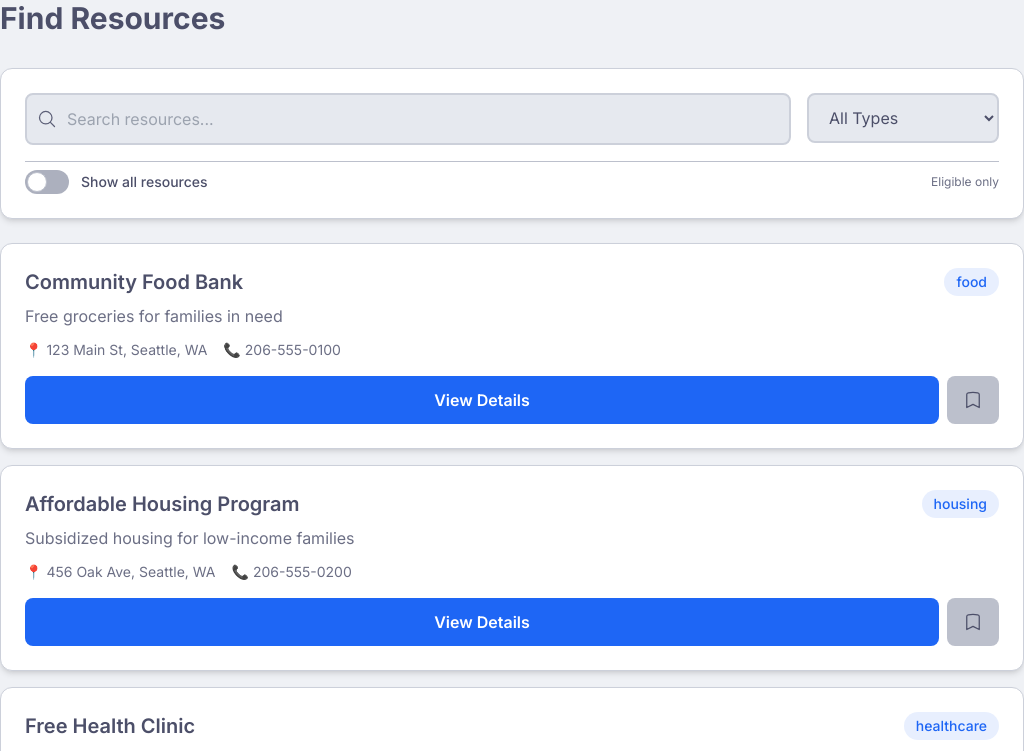
Scenario: Resources Page - Search and Bookmark Tests › Search Functionality › should filter resources by search term (name)
The width and height of the screenshot is (1024, 751).
Expected: the heading "Community Food Bank" is shown, [25, 268, 243, 296]
Type "Food Bank" into the search field with placeholder "Search resources...".
click(408, 119); type("Food Bank")  # box [25, 93, 791, 145]
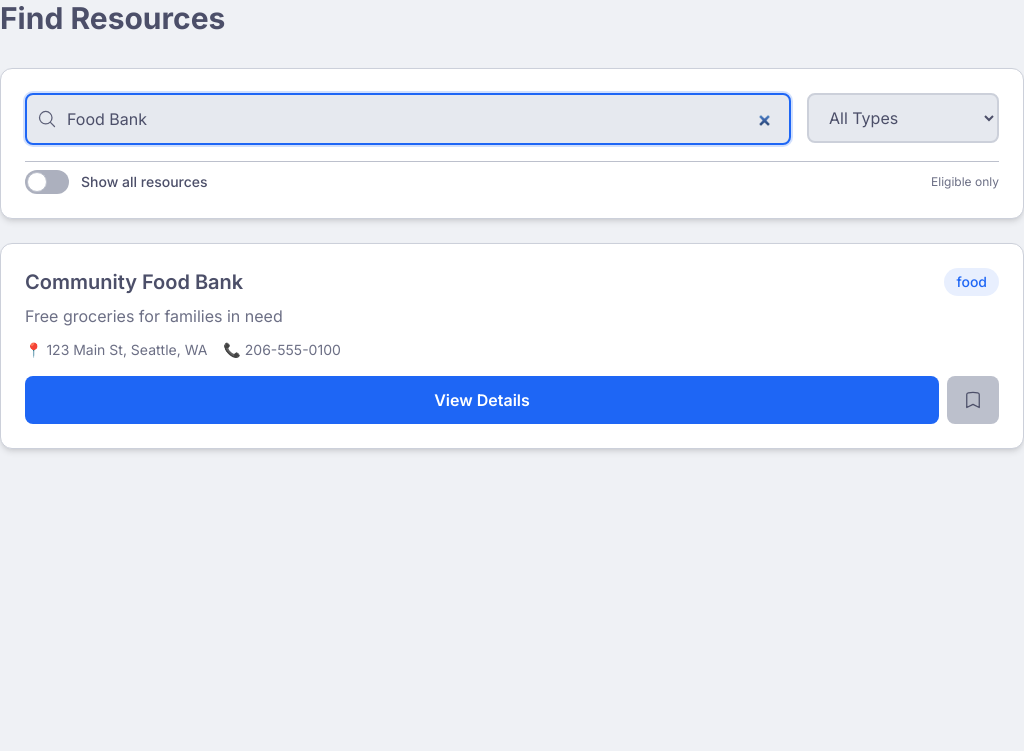
Expected: the heading "Community Food Bank" is shown, [25, 268, 243, 296]
Now the heading "Affordable Housing Program" is gone
